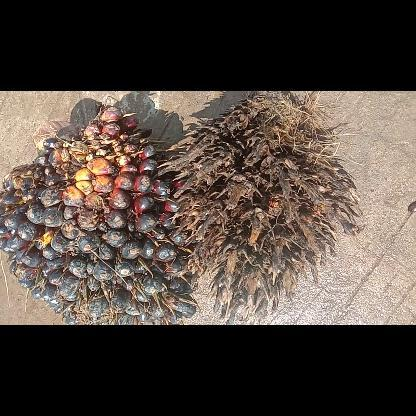Janjang kosong: (157, 90, 359, 324)
TBS mentah: (0, 106, 206, 324)
